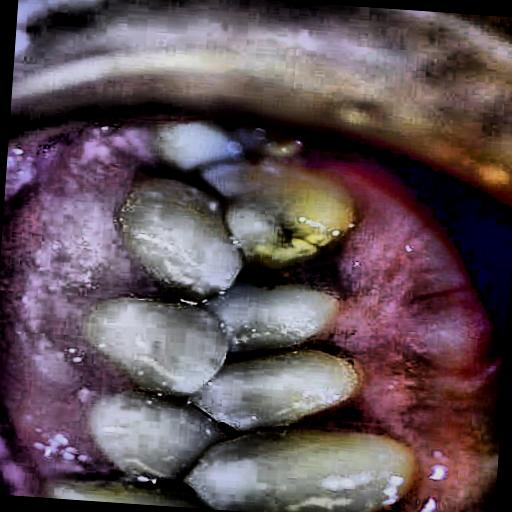Calculus: (118, 137, 390, 430)
